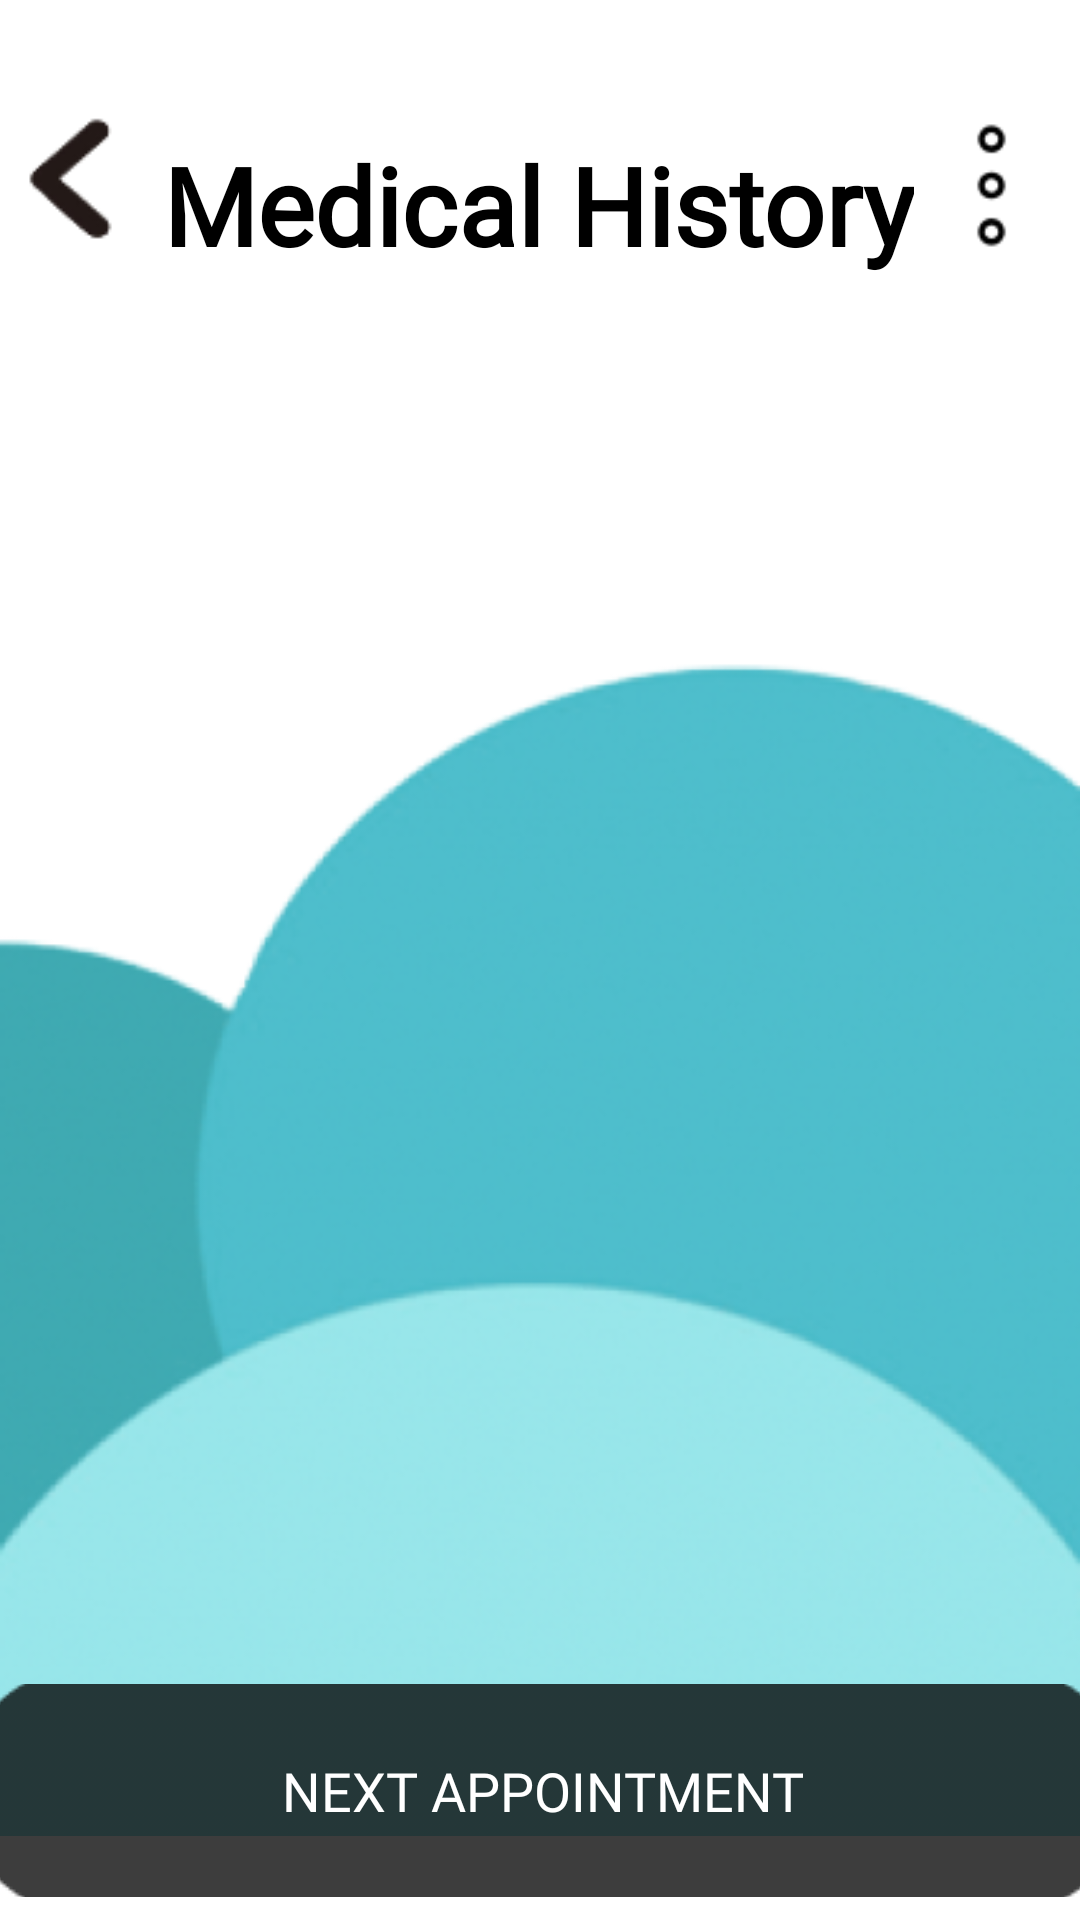

Icons on this 1080px x 1920px Android screen, each with the point to tap as point (x, y):
back: point (70, 178)
more: point (991, 185)
